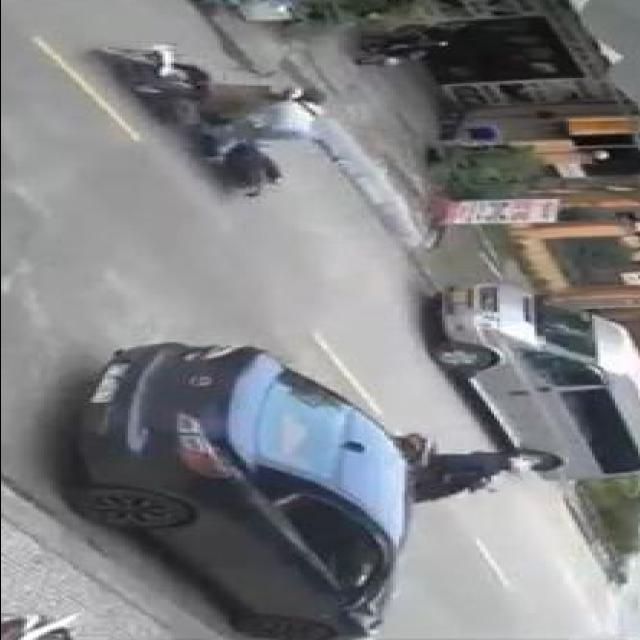accident: (85, 40, 365, 202)
